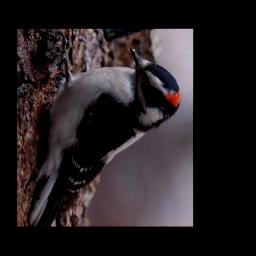Woodpecker: (27, 43, 184, 224)
